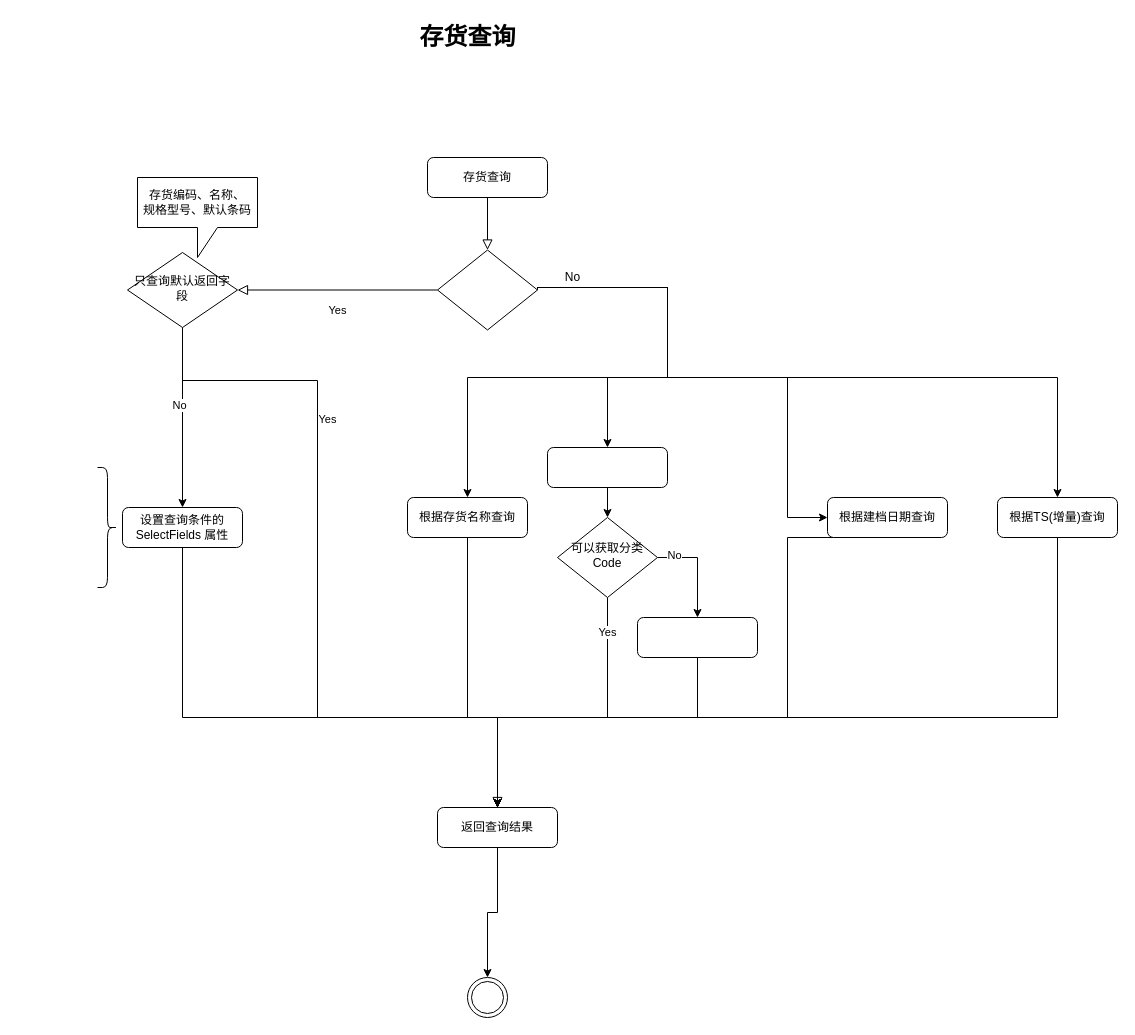
Some shapes in this 1135 by 1035 pixel diagram are drawn without their labels. Here are the shapes that lost their labels. From the top down, the box of each, then its label:
(436, 249, 538, 330): 查询所有存货
(546, 446, 668, 488): 根据存货分类查询
(96, 466, 118, 588): Code Name InventoryClass Code InventoryClass Name Unit.Code Unit.Name"
(636, 616, 758, 658): 查询存货分类
(466, 976, 508, 1018): 结束
